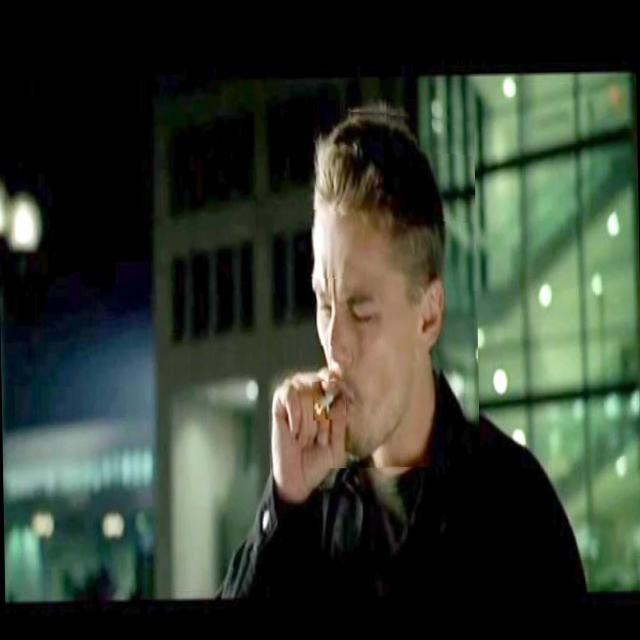cigarette: (312, 380, 346, 420)
